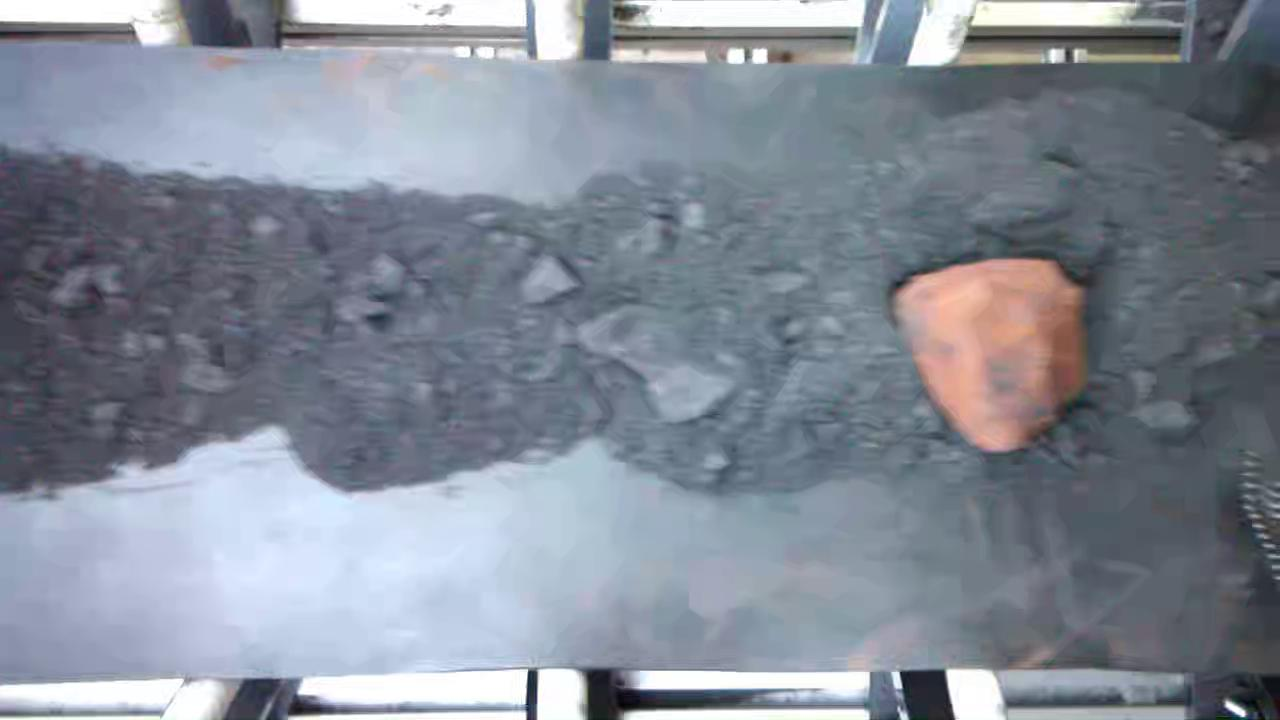conveyor: (11, 70, 1280, 656)
